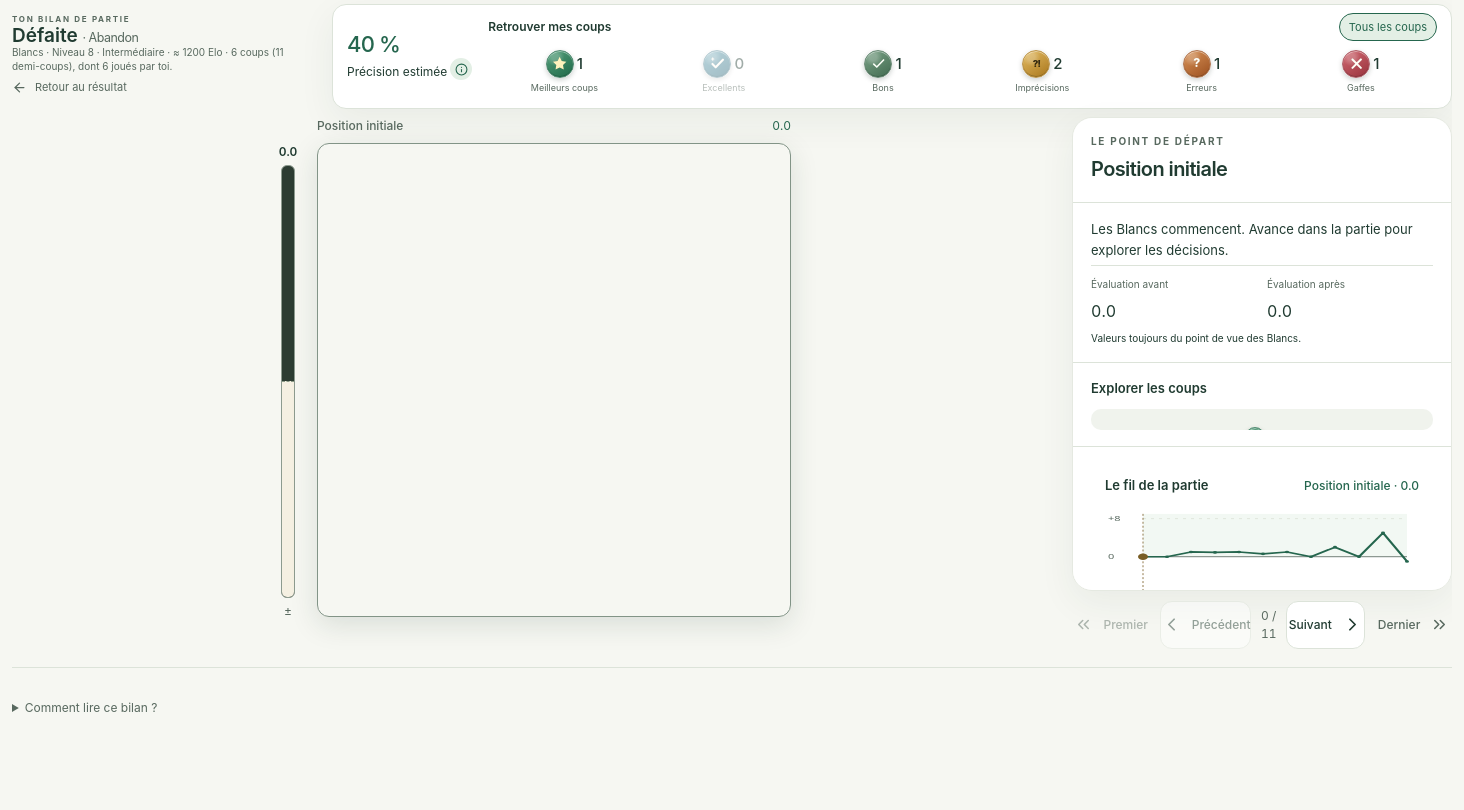
Bilan : filtres de classifications synchronisés › parcourt seulement les coups filtrés, puis revient à tous les coups
The image size is (1464, 810).
Click the button with aria-label "Imprécisions, 2 coups".
click(1042, 72)  # box [966,45,1118,100]
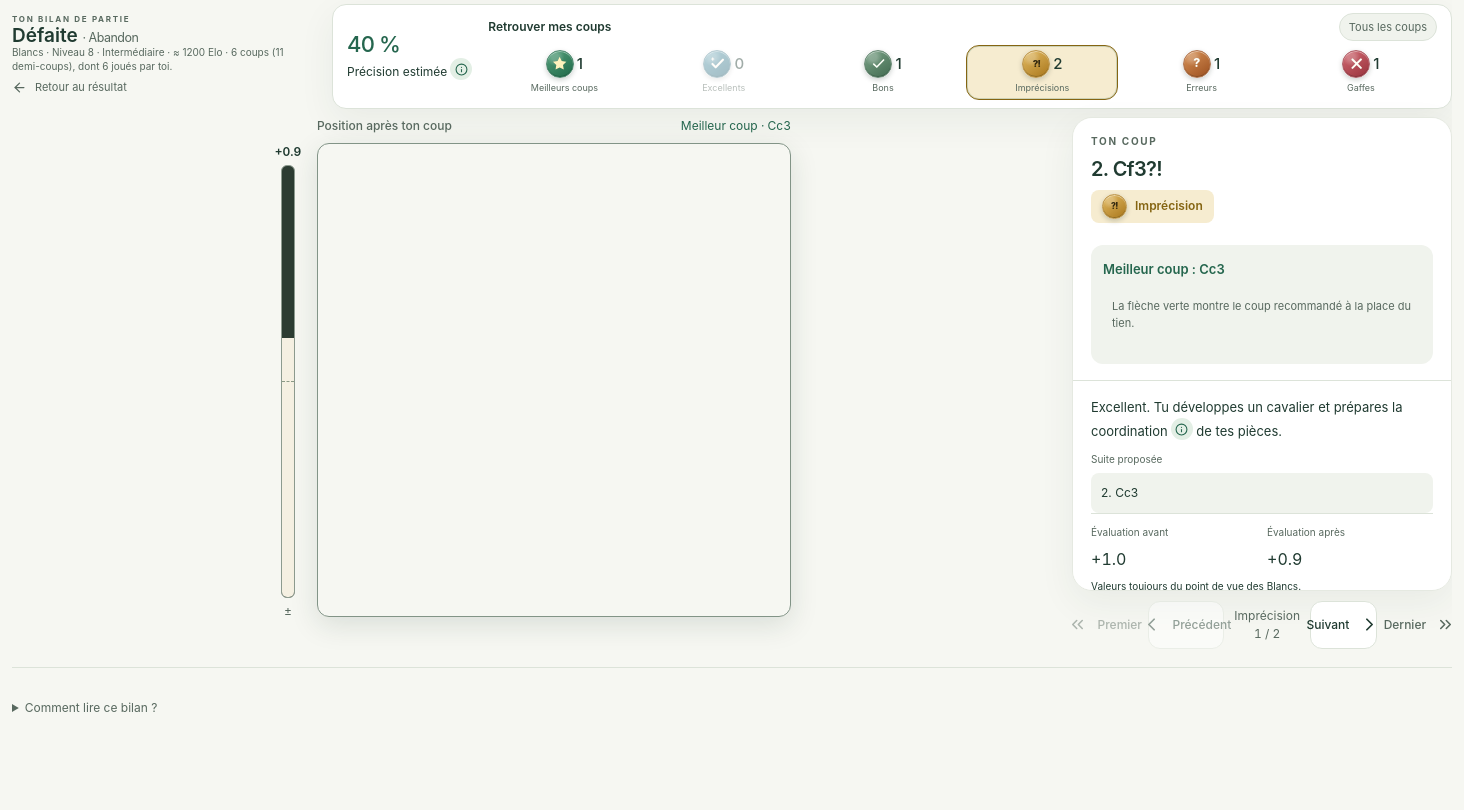
Result: the text with test id "review-position" reads "Imprécision 1 / 2" at [1234,608,1300,640]
Click the button with aria-label "Coup suivant".
click(1343, 624)  # box [1310,600,1377,648]
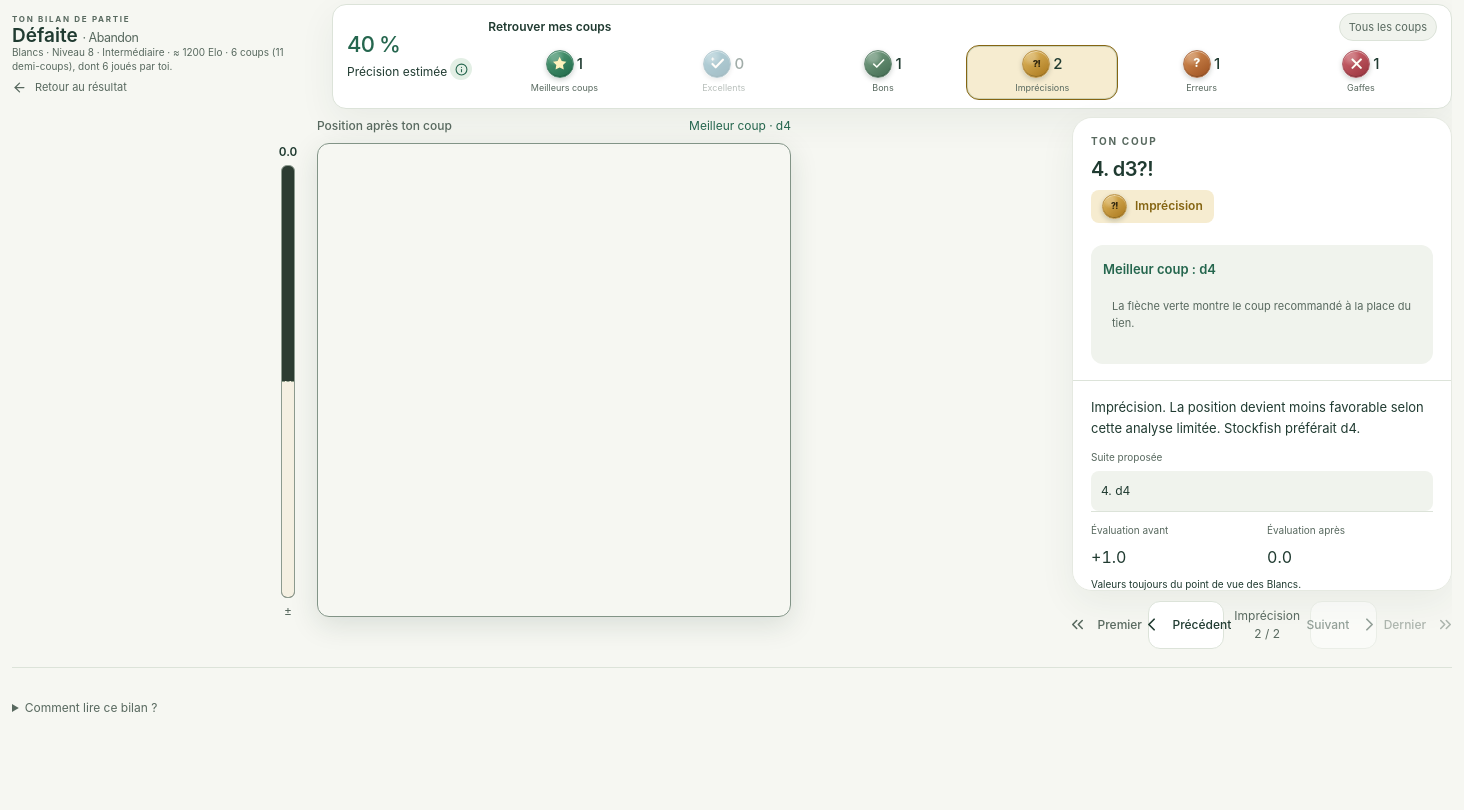
Result: the text with test id "review-position" reads "Imprécision 2 / 2" at [1234,608,1300,640]
Click the button with aria-label "Coup précédent".
click(1186, 624)  # box [1148,600,1224,648]
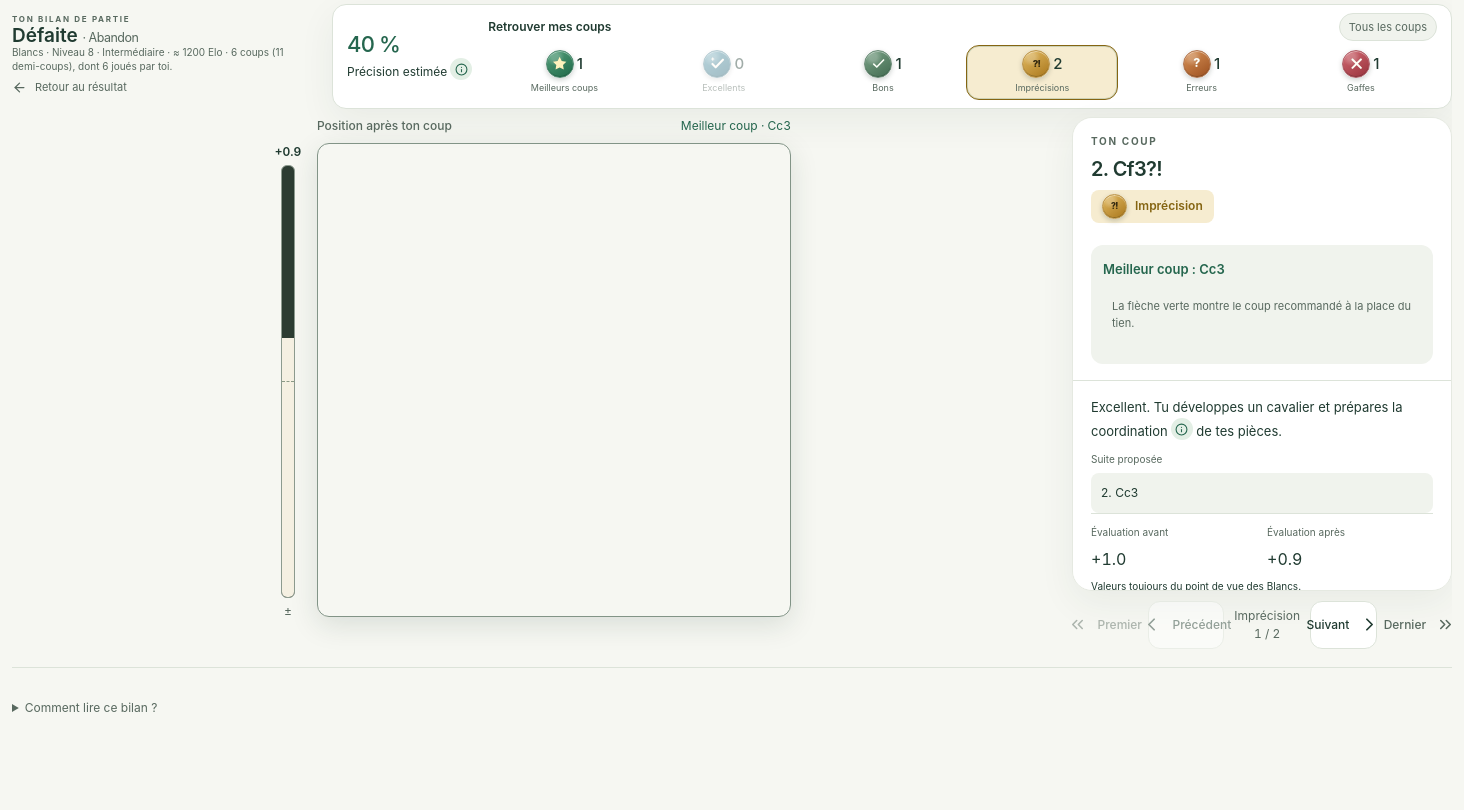
Click the button "Tous les coups".
click(1388, 27)  # box [1339,13,1437,41]
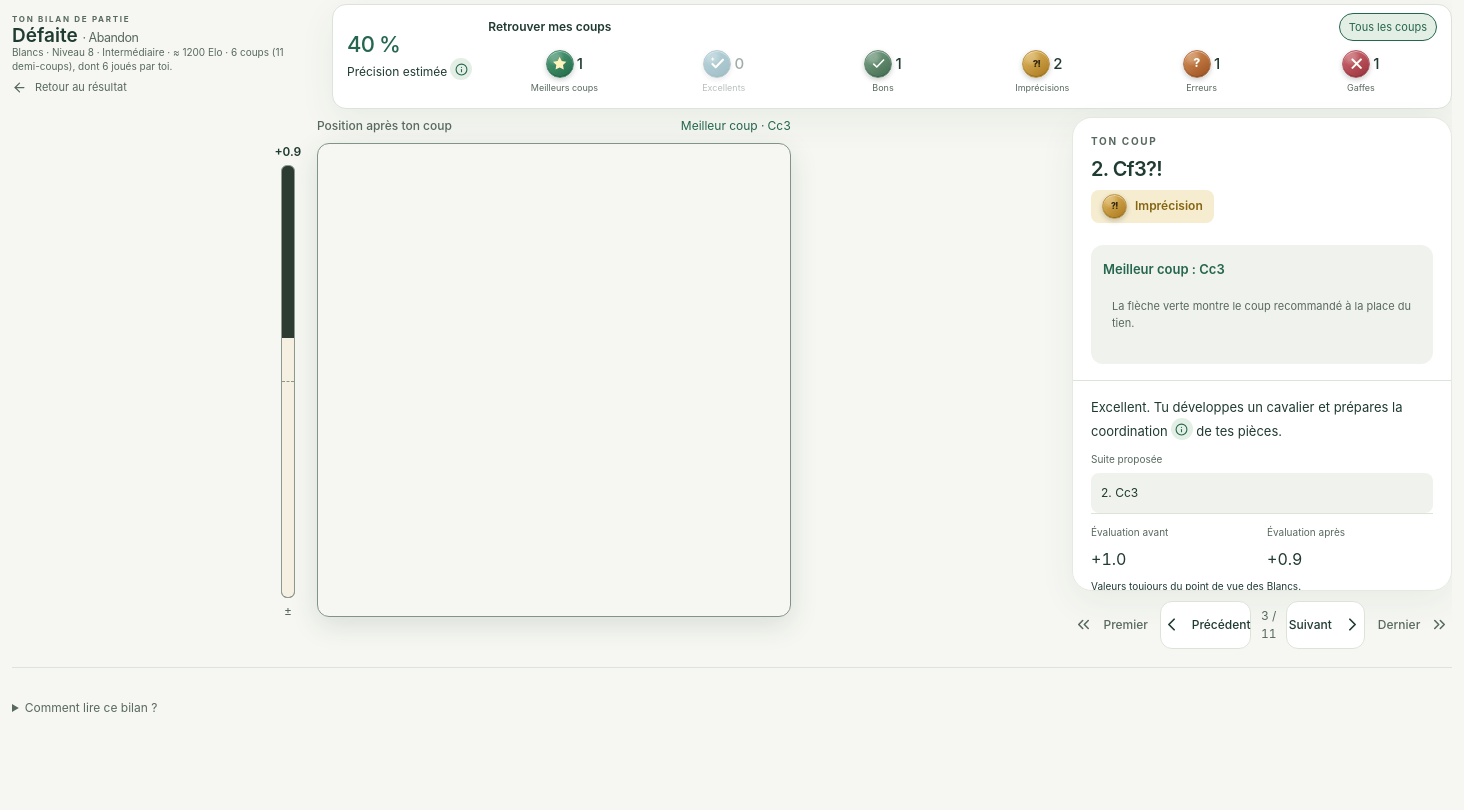
Result: the text with test id "review-position" reads "3 / 11" at [1261,608,1276,640]
